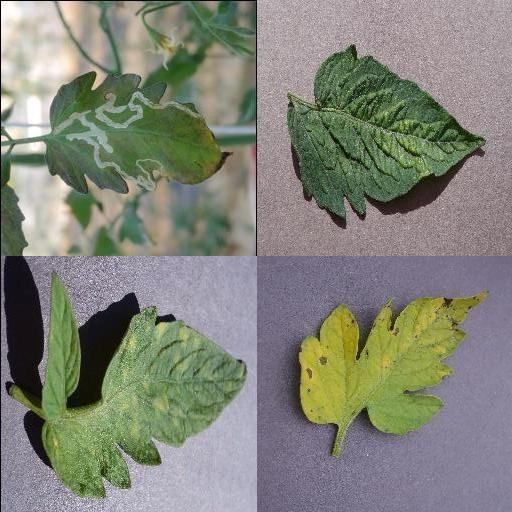Leaf Miner: (42, 69, 235, 195)
Leaf Mold: (38, 306, 246, 498)
Septoria: (296, 289, 492, 434)
Spider Mites: (287, 46, 485, 220)
